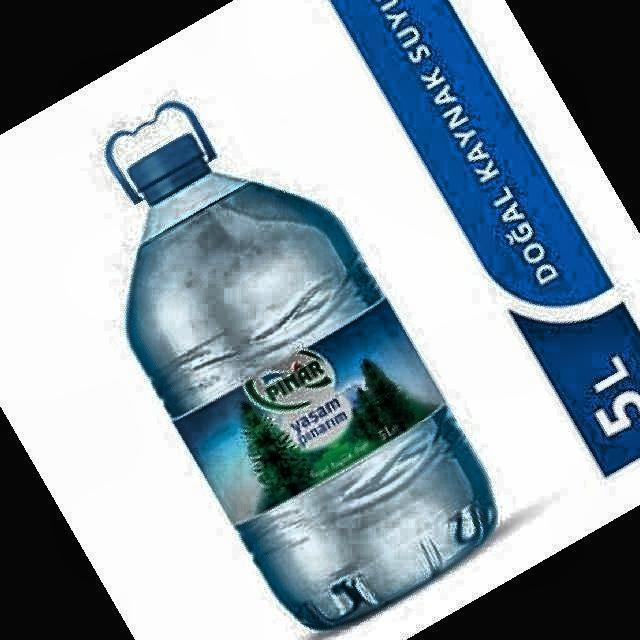plastic: (108, 102, 495, 629)
